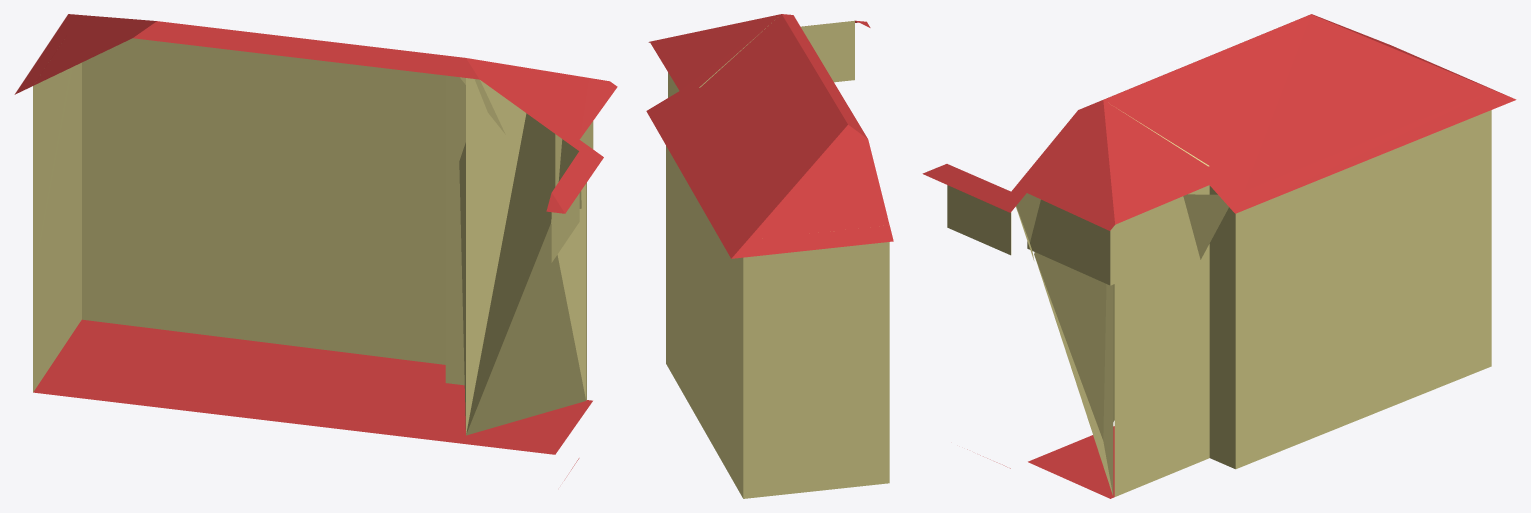
3 views of the same model, side by side, from view 1: azimuth 30°, elevation 25°; view 2: azimuth 150°, elevation 25°; view 3: azimuth 270°, elevation 25° (orthographic). The views are drawn at different scales.
Bounding box in the file's own units: 13.21 × 16.82 × 10.65.
